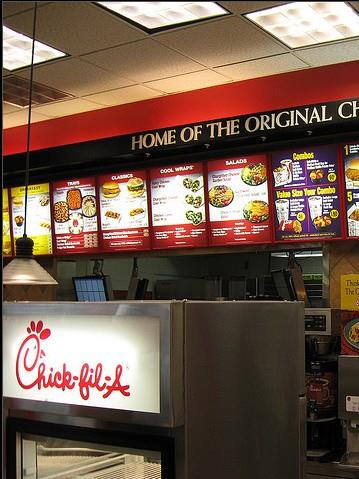Chick_Fil_A: (11, 314, 139, 408)
